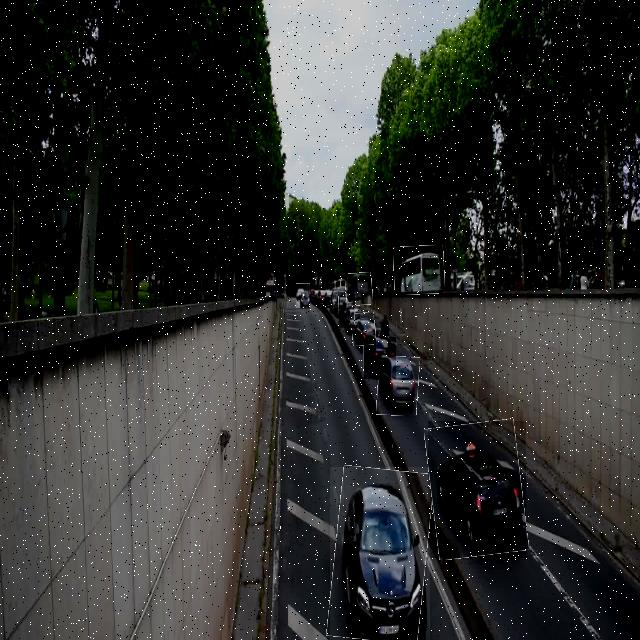Bus: (394, 246, 444, 295), (346, 272, 372, 306)
Car: (330, 467, 430, 640), (428, 421, 526, 558), (377, 356, 419, 415), (363, 336, 396, 380), (351, 312, 376, 346), (338, 291, 355, 328), (296, 283, 310, 308)
